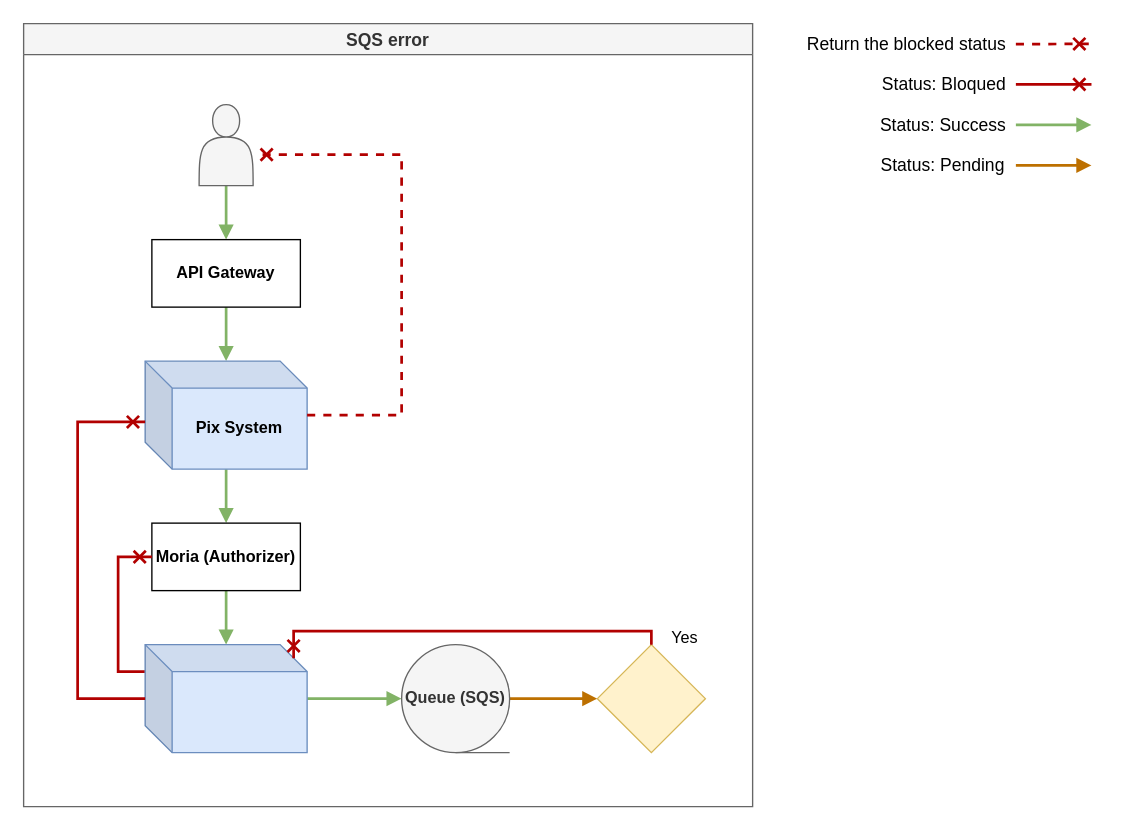
Image size: 1127x830. Some labels were removed from this diagram. The centre of each missing label's shape, as x and y in pixels:
"Client" belongs at pixel 225 144.
"Ledger" belongs at pixel 225 698.
"SQS error?" belongs at pixel 650 698.
